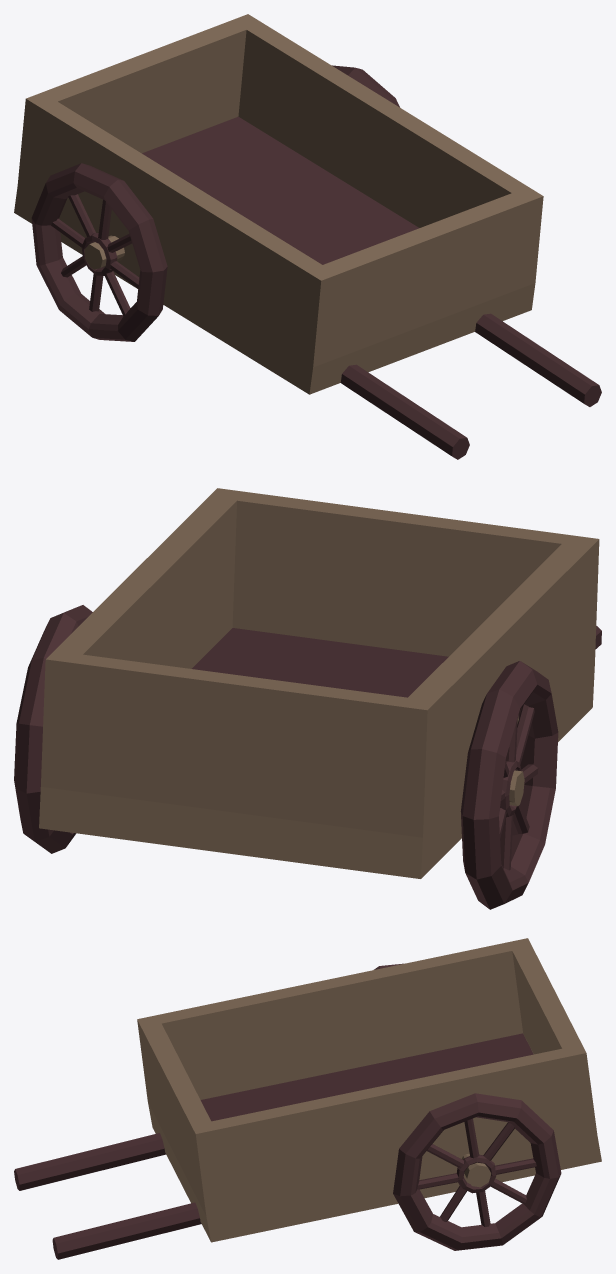
File: Wheelbarrow.glb
3 views of the same model, one above another, from view 1: azimuth 30°, elevation 25°; view 2: azimuth 150°, elevation 25°; view 3: azimuth 270°, elevation 25° (orthographic). The views are drawn at different scales.
Parts seen in each view (by area): view 1: Wheelbarrow; view 2: Wheelbarrow; view 3: Wheelbarrow.
Boxes of the visible parts, <box> form: Wheelbarrow: <box>14,14,601,459</box>; Wheelbarrow: <box>14,488,601,909</box>; Wheelbarrow: <box>14,938,601,1259</box>.
Size of the model in its own units: 1.4 by 0.7293 by 2.15.
